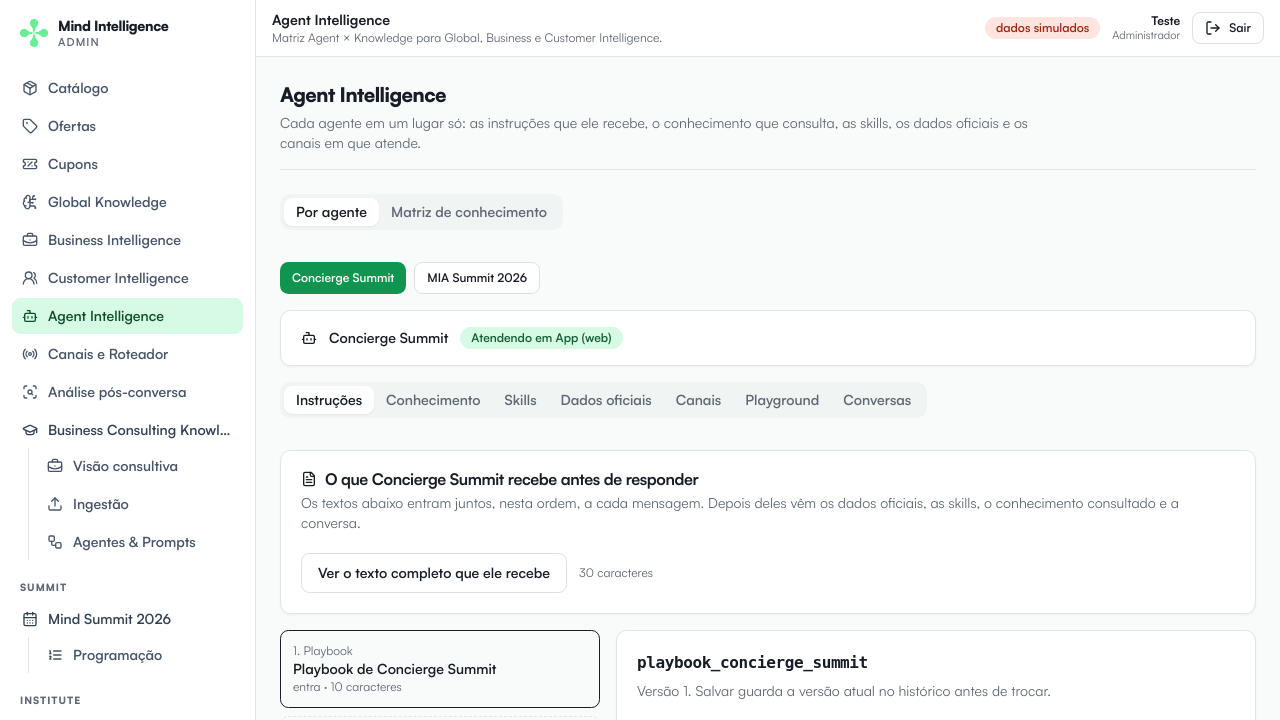
Scenario: gerar embeddings do Summit › repete as rodadas até não sobrar trecho e diz quantos processou
The width and height of the screenshot is (1280, 720).
Click the tab "Conhecimento".
click(433, 400)  # box left=374, top=386, right=493, bottom=414
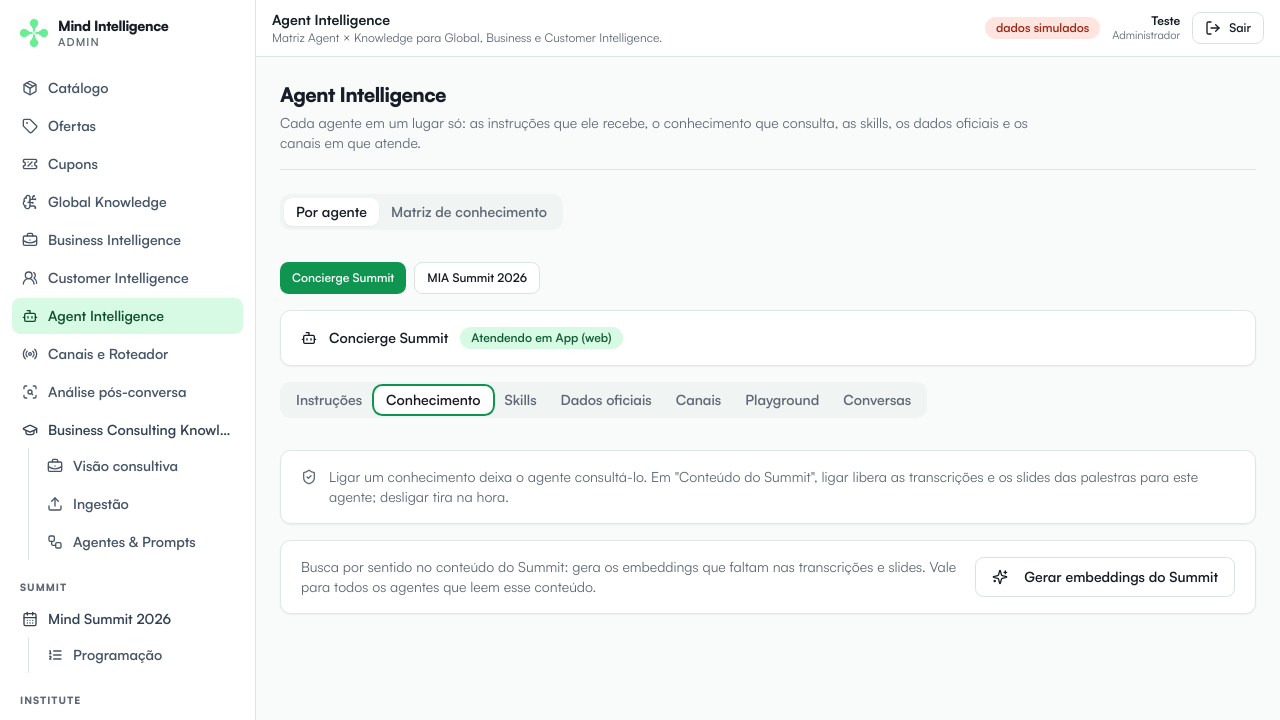
Click the button "Gerar embeddings do Summit".
click(1105, 577)  # box left=975, top=557, right=1235, bottom=597
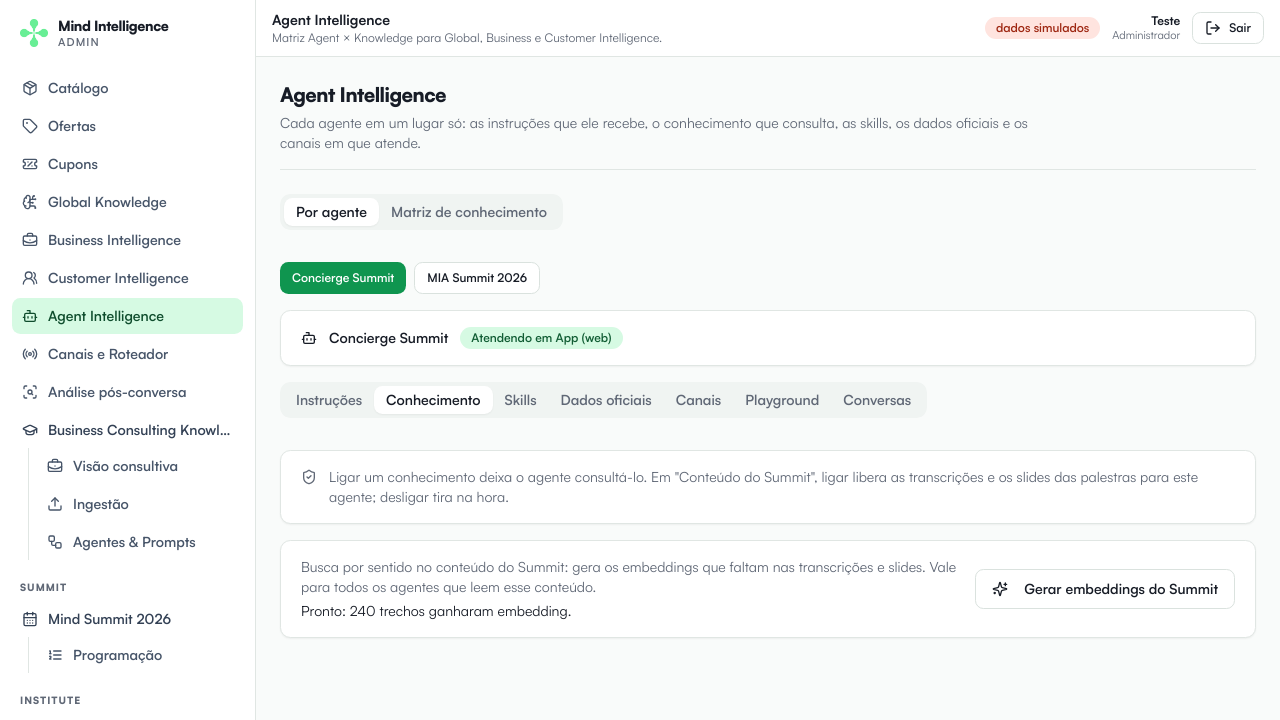
Now the text "Pronto: 240 trechos ganharam embedding." is shown, box left=301, top=602, right=571, bottom=619
